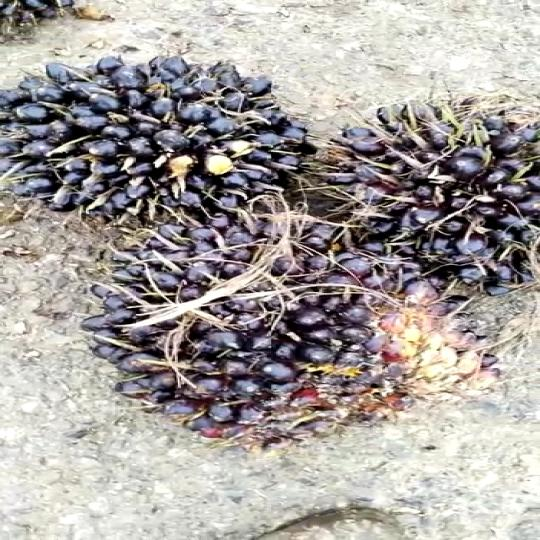mentah: (68, 214, 434, 458), (0, 51, 301, 220), (322, 80, 540, 299)
